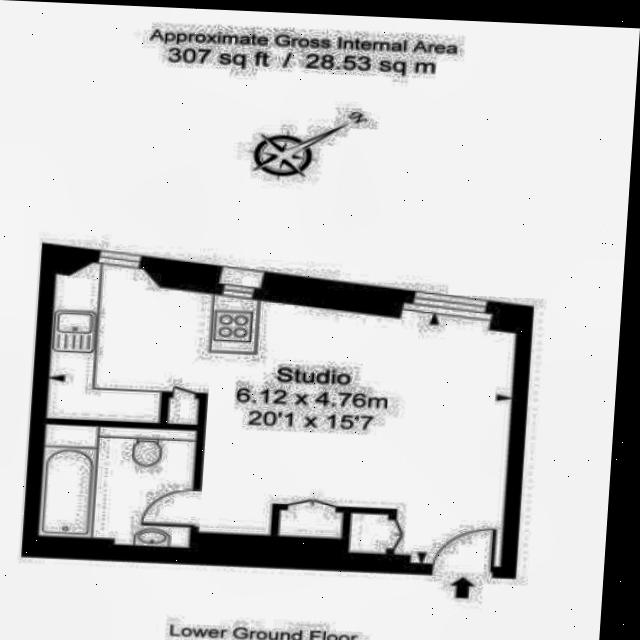room: (24, 275, 529, 593), (38, 424, 197, 549)
